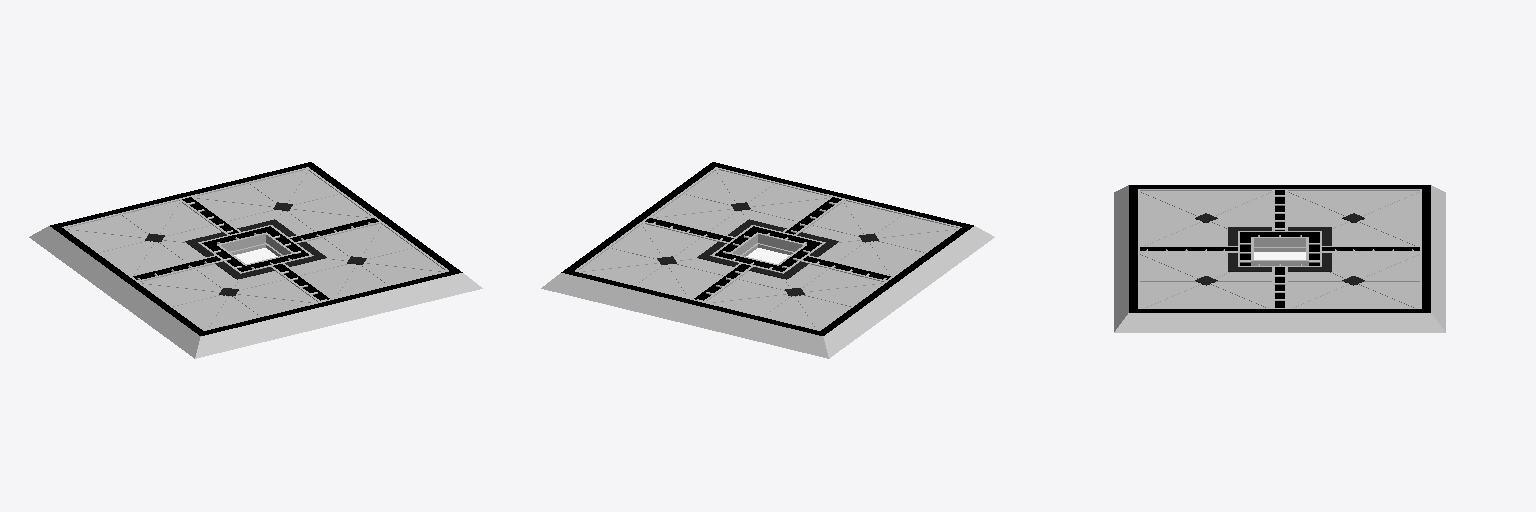
Rendered from WallHyper.obj.
3 renders of one model, left to right at view 1: azimuth 30°, elevation 25°; view 2: azimuth 150°, elevation 25°; view 3: azimuth 270°, elevation 25°, orthographic.
Parts seen in each view (by area): view 1: light, wall, frame, front; view 2: light, wall, frame, front; view 3: light, wall, frame, front.
Boxes of the visible parts, x1,y1,x2,y2 form: light: [69, 170, 443, 328]; wall: [29, 167, 482, 358]; frame: [50, 162, 462, 335]; front: [145, 202, 366, 296]; light: [580, 170, 954, 328]; wall: [541, 167, 994, 358]; frame: [561, 162, 973, 335]; front: [657, 202, 878, 296]; light: [1140, 191, 1419, 307]; wall: [1114, 185, 1445, 332]; frame: [1129, 185, 1430, 312]; front: [1195, 213, 1364, 285].
Size of the model in its own units: 2.2 by 0.1 by 2.2.